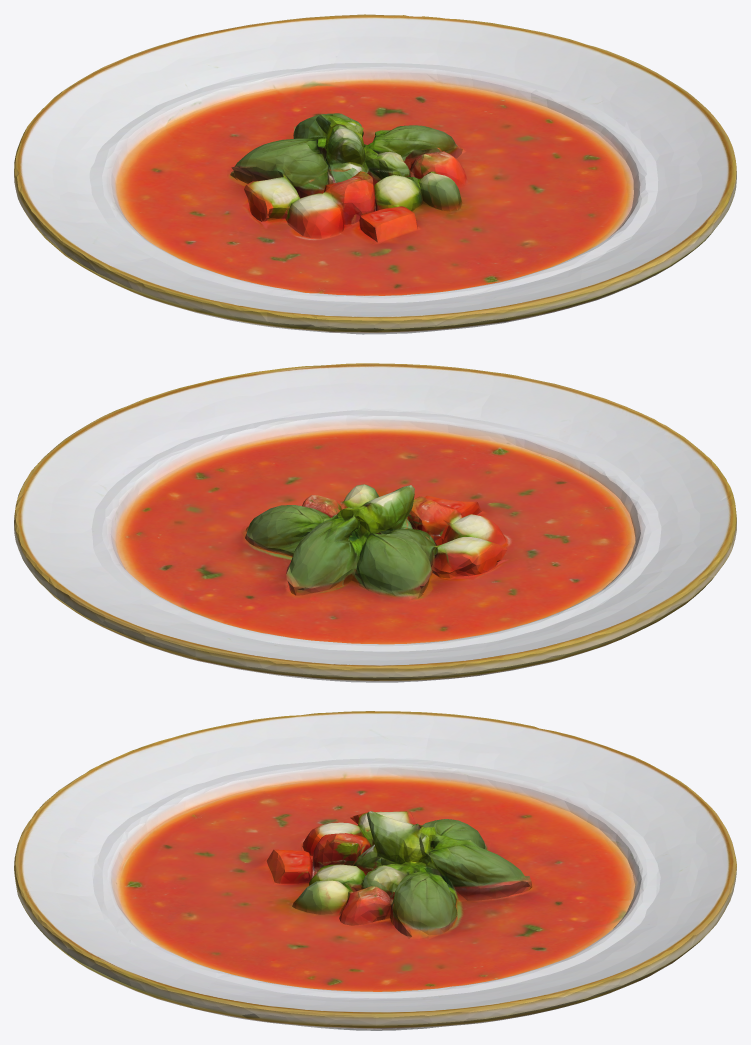
The model's file is Gazpacho_0515150355_texture.fbx.
The picture shows the model from 3 angles, top to bottom: view 1: azimuth 30°, elevation 25°; view 2: azimuth 150°, elevation 25°; view 3: azimuth 270°, elevation 25°; orthographic projection.
Visible parts, largest first — view 1: temp; view 2: temp; view 3: temp.
Boxes of the visible parts, x1,y1,x2,y2 form: temp: (14, 14, 736, 334); temp: (14, 363, 736, 682); temp: (14, 711, 736, 1030).
Size of the model in its own units: 200 by 27.48 by 200.
1 material, 1 textured.
